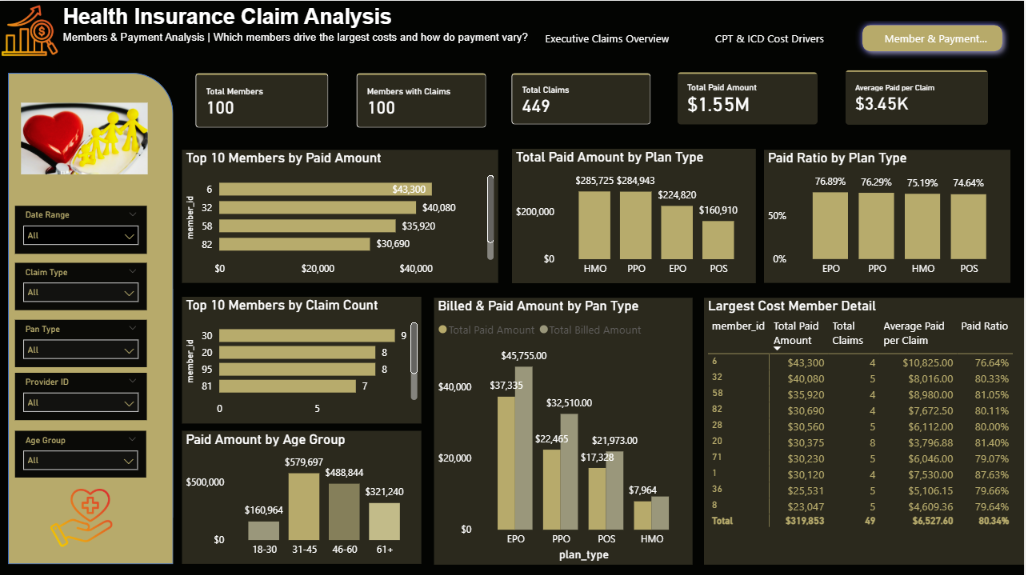

This screenshot's page, from the dashboard's own definition file:
{"tool":"powerbi","page":{"name":"Member & Payment Analysis","canvas":[1280,720],"ordinal":2},"visuals":[{"type":"group","id":"g1","title":"Group 3","box":[0,0,1280.3,90.6],"z":0},{"type":"cardVisual","fields":{"Data":["Measure Table.Total Paid Amount"]},"box":[831,72.7,209.5,99.8],"z":0,"group":"g3"},{"type":"shape","box":[10,89.8,206.7,614.3],"z":0,"group":"g2"},{"type":"textbox","box":[74.1,0,1206.2,90.6],"z":1000,"group":"g1"},{"type":"cardVisual","fields":{"Data":["Measure Table.Total Claims"]},"box":[622.9,74.1,208.1,98.4],"z":1000},{"type":"slicer","fields":{"Values":["claims.claim_type"]},"box":[18.6,327.4,164.5,58.8],"z":1000,"group":"g2"},{"type":"cardVisual","fields":{"Data":["Measure Table.Average Paid per Claim"]},"box":[1040.6,69.8,212.4,102.6],"z":2000,"group":"g3"},{"type":"group","id":"g2","title":"Group 1","box":[10,89.8,206.7,614.3],"z":2000},{"type":"slicer","fields":{"Values":["Date.Month Year"]},"box":[18.6,256.6,164.7,59.6],"z":2000,"group":"g2"},{"type":"image","box":[0,0,74.1,74.1],"z":3000,"group":"g1"},{"type":"cardVisual","fields":{"Data":["Measure Table.Members with Claims"]},"box":[429.1,74.1,196.7,102.6],"z":3000,"group":"g3"},{"type":"barChart","title":"Top 10 Members by Paid Amount","fields":{"Category":["members.member_id"],"Y":["Measure Table.Total Paid Amount"]},"box":[228.1,186.7,394.8,166.8],"z":3000},{"type":"slicer","fields":{"Values":["members.plan_type"]},"box":[18.6,398.3,164.5,58.8],"z":3000,"group":"g2"},{"type":"cardVisual","fields":{"Data":["Measure Table.Total Members"]},"box":[228.1,74.1,201,102.6],"z":4000,"group":"g3"},{"type":"clusteredColumnChart","title":"Total Paid Amount by Plan Type","fields":{"Y":["Measure Table.Total Paid Amount"],"Category":["members.plan_type"]},"box":[640,185.3,305,168.2],"z":4000},{"type":"slicer","fields":{"Values":["claims.provider_id"]},"box":[18.6,464.3,164.5,58.8],"z":4000,"group":"g2"},{"type":"image","box":[25.7,114,158.2,116.9],"z":5000,"group":"g2"},{"type":"clusteredColumnChart","title":"Paid Ratio by Plan Type","fields":{"Category":["members.plan_type"],"Y":["Measure Table.Paid Ratio"]},"box":[955,186.7,307.9,166.8],"z":5000},{"type":"barChart","title":"Top 10 Members by Claim Count","fields":{"Category":["members.member_id"],"Y":["Measure Table.Total Claims"]},"box":[228.1,370.6,299.3,158.2],"z":6000},{"type":"slicer","fields":{"Values":["members.Age Group"]},"box":[18.6,537.4,163.9,58.4],"z":6000,"group":"g2"},{"type":"clusteredColumnChart","title":"Paid Amount by Age Group","fields":{"Category":["members.Age Group"],"Y":["Measure Table.Total Paid Amount"]},"box":[228.1,537.4,299.3,166.8],"z":7000},{"type":"image","box":[22.8,605.8,158.2,79.8],"z":7000,"group":"g2"},{"type":"clusteredColumnChart","title":"Billed & Paid Amount by Pan Type","fields":{"Category":["members.plan_type"],"Y":["Measure Table.Total Paid Amount","Measure Table.Total Billed Amount"]},"box":[543,371.1,323.4,333.6],"z":8000},{"type":"pivotTable","title":"Largest Cost Member Detail","fields":{"Values":["Measure Table.Total Paid Amount","Measure Table.Total Claims","Measure Table.Average Paid per Claim","Measure Table.Paid Ratio"],"Rows":["claims.member_id"]},"box":[880,371.1,400,333.6],"z":9000},{"type":"group","id":"g3","title":"Group 2","box":[228.1,69.8,1024.9,106.9],"z":10000},{"type":"pageNavigator","box":[662.8,21.4,600.1,51.3],"z":10500,"group":"g1"}]}

Visuals, with their boxes in screenshot pixels (x1, y1, x2, y2), scaled from the page's 1280x720 canvas onto the 1026x575 screenshot:
"Group 3" group: bbox(0, 0, 1025, 72)
cardVisual - Measure Table.Total Paid Amount: bbox(666, 58, 834, 138)
shape: bbox(8, 72, 174, 562)
textbox: bbox(59, 0, 1025, 72)
cardVisual - Measure Table.Total Claims: bbox(499, 59, 666, 138)
slicer - claims.claim_type: bbox(15, 261, 147, 308)
cardVisual - Measure Table.Average Paid per Claim: bbox(834, 56, 1004, 138)
"Group 1" group: bbox(8, 72, 174, 562)
slicer - Date.Month Year: bbox(15, 205, 147, 253)
image: bbox(0, 0, 59, 59)
cardVisual - Measure Table.Members with Claims: bbox(344, 59, 502, 141)
"Top 10 Members by Paid Amount" barChart: bbox(183, 149, 499, 282)
slicer - members.plan_type: bbox(15, 318, 147, 365)
cardVisual - Measure Table.Total Members: bbox(183, 59, 344, 141)
"Total Paid Amount by Plan Type" clusteredColumnChart: bbox(513, 148, 757, 282)
slicer - claims.provider_id: bbox(15, 371, 147, 418)
image: bbox(21, 91, 147, 184)
"Paid Ratio by Plan Type" clusteredColumnChart: bbox(765, 149, 1012, 282)
"Top 10 Members by Claim Count" barChart: bbox(183, 296, 423, 422)
slicer - members.Age Group: bbox(15, 429, 146, 476)
"Paid Amount by Age Group" clusteredColumnChart: bbox(183, 429, 423, 562)
image: bbox(18, 484, 145, 548)
"Billed & Paid Amount by Pan Type" clusteredColumnChart: bbox(435, 296, 694, 563)
"Largest Cost Member Detail" pivotTable: bbox(705, 296, 1025, 563)
"Group 2" group: bbox(183, 56, 1004, 141)
pageNavigator: bbox(531, 17, 1012, 58)
